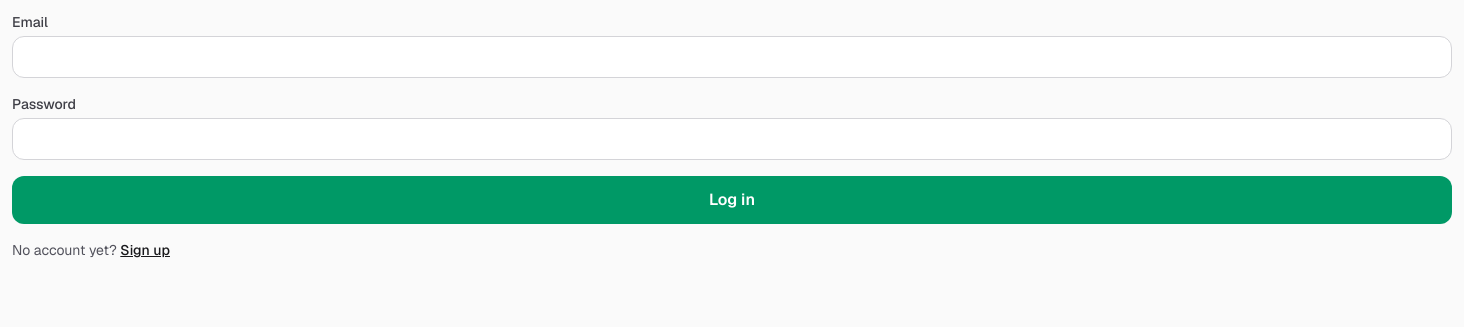
Test: a wrong password shows the backend's message and does not sign in
Step 1. Type "sam@example.com" into the field labelled "Email" → (732, 57), box [12,36,1452,78]
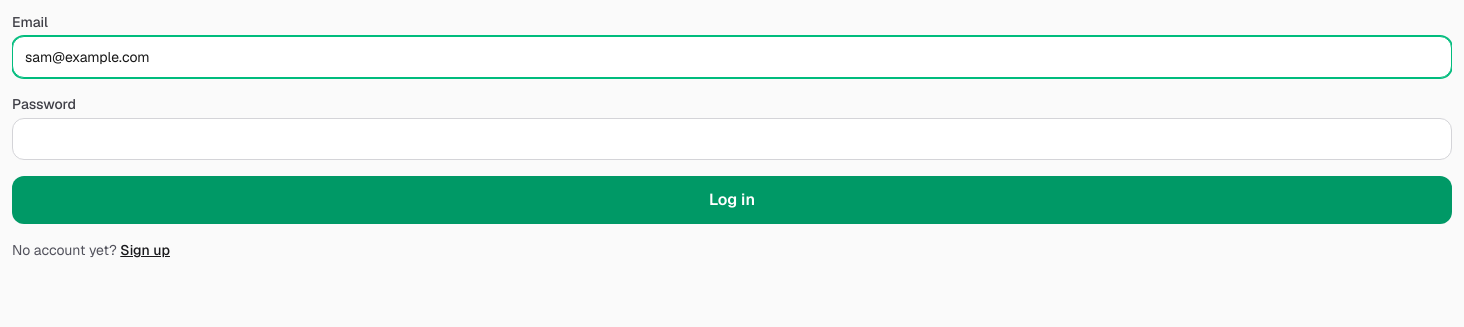
Step 2. Type "correct horse battery" into the password field labelled "Password" → (732, 139), box [12,118,1452,160]
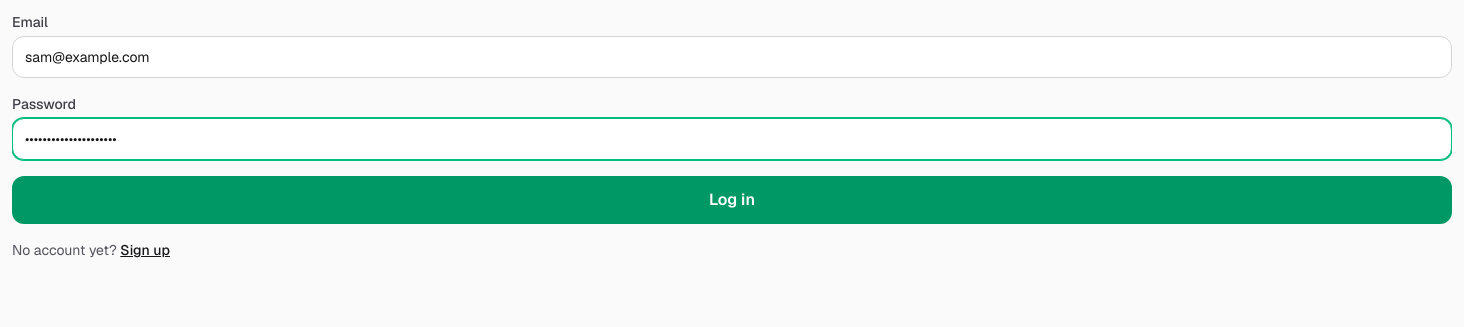
Step 3. Click the button "Log in" → (732, 200), box [12,176,1452,224]
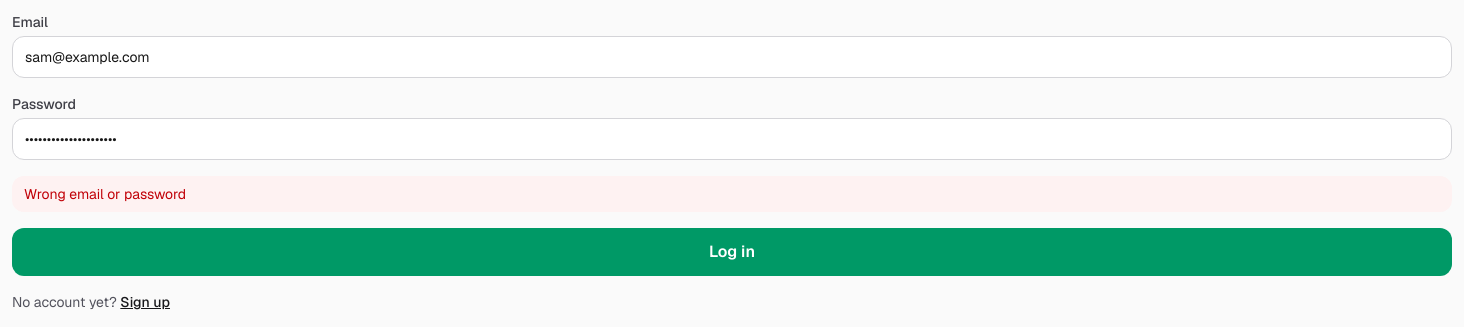
Expected: the button "Log in" is enabled, [12,228,1452,276]
Now the message reads "Wrong email or password", box [24,185,186,203]
